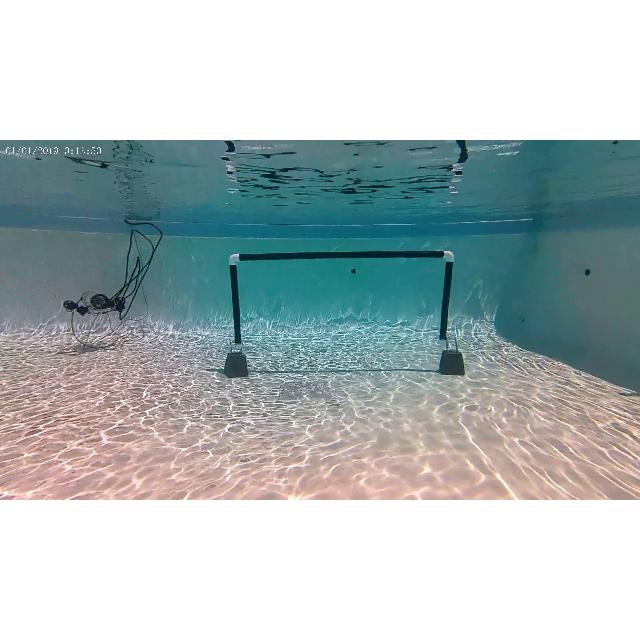prequal gate: (229, 252, 453, 350)
prequal gate leg l: (228, 253, 252, 351)
prequal gate leg r: (437, 250, 458, 350)
